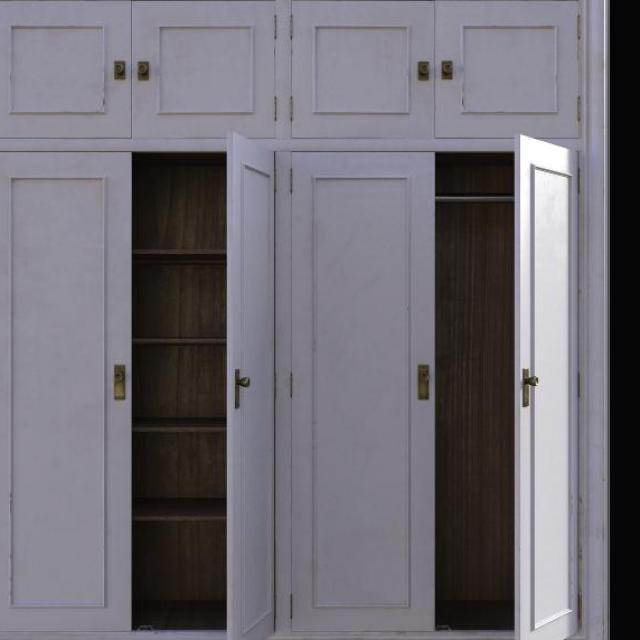Door: (285, 130, 439, 634), (4, 141, 150, 630), (503, 133, 591, 640), (203, 137, 278, 637)
